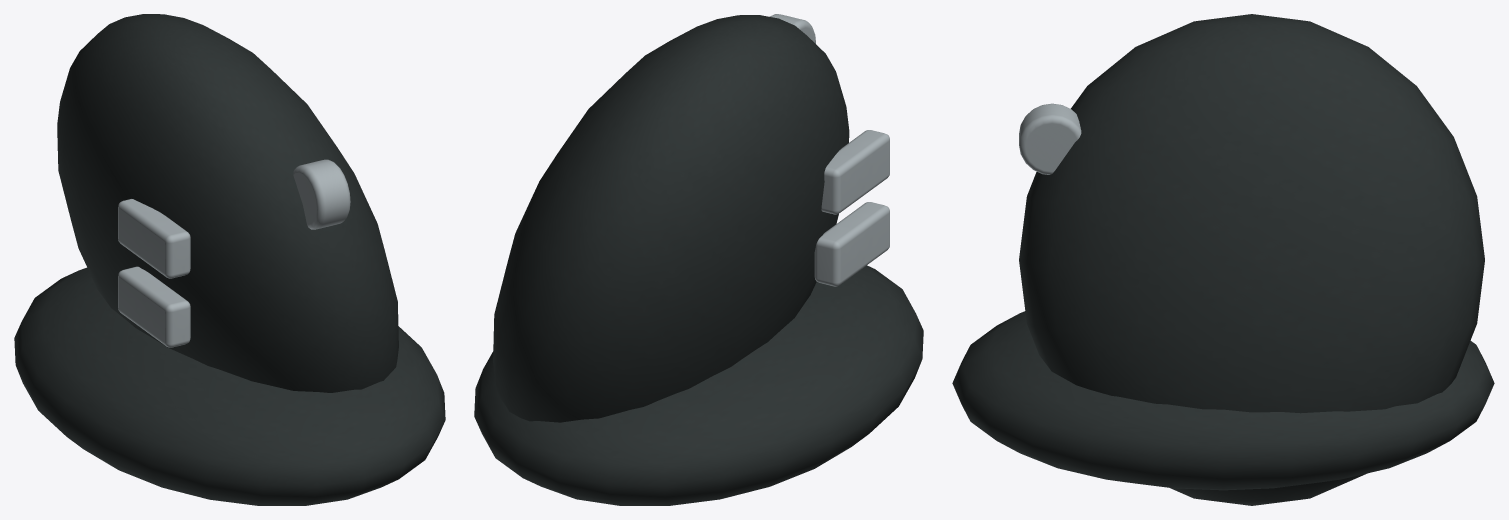
File: vertical.glb
3 views of the same model, side by side, from view 1: azimuth 30°, elevation 25°; view 2: azimuth 150°, elevation 25°; view 3: azimuth 270°, elevation 25° (orthographic). The views are drawn at different scales.
Parts seen in each view (by area): view 1: Upright ergonomic grip, Thumb rest base, Thumb control, Thumb control.001, Vertical mouse wheel; view 2: Upright ergonomic grip, Thumb rest base, Thumb control, Thumb control.001; view 3: Upright ergonomic grip, Thumb rest base, Vertical mouse wheel.
Boxes of the visible parts, x1=… form: Upright ergonomic grip: x1=57, y1=14, x2=398, y2=392; Thumb rest base: x1=14, y1=267, x2=445, y2=505; Thumb control: x1=118, y1=266, x2=190, y2=347; Thumb control.001: x1=118, y1=199, x2=190, y2=278; Vertical mouse wheel: x1=293, y1=159, x2=350, y2=229; Upright ergonomic grip: x1=493, y1=15, x2=849, y2=422; Thumb rest base: x1=474, y1=265, x2=923, y2=505; Thumb control: x1=814, y1=202, x2=889, y2=286; Thumb control.001: x1=821, y1=130, x2=889, y2=214; Upright ergonomic grip: x1=1019, y1=14, x2=1484, y2=505; Thumb rest base: x1=952, y1=311, x2=1494, y2=490; Vertical mouse wheel: x1=1019, y1=103, x2=1081, y2=174.
Bounding box in the file's own units: 0.082 × 0.0995 × 0.114.
2 materials, 2 textured.
